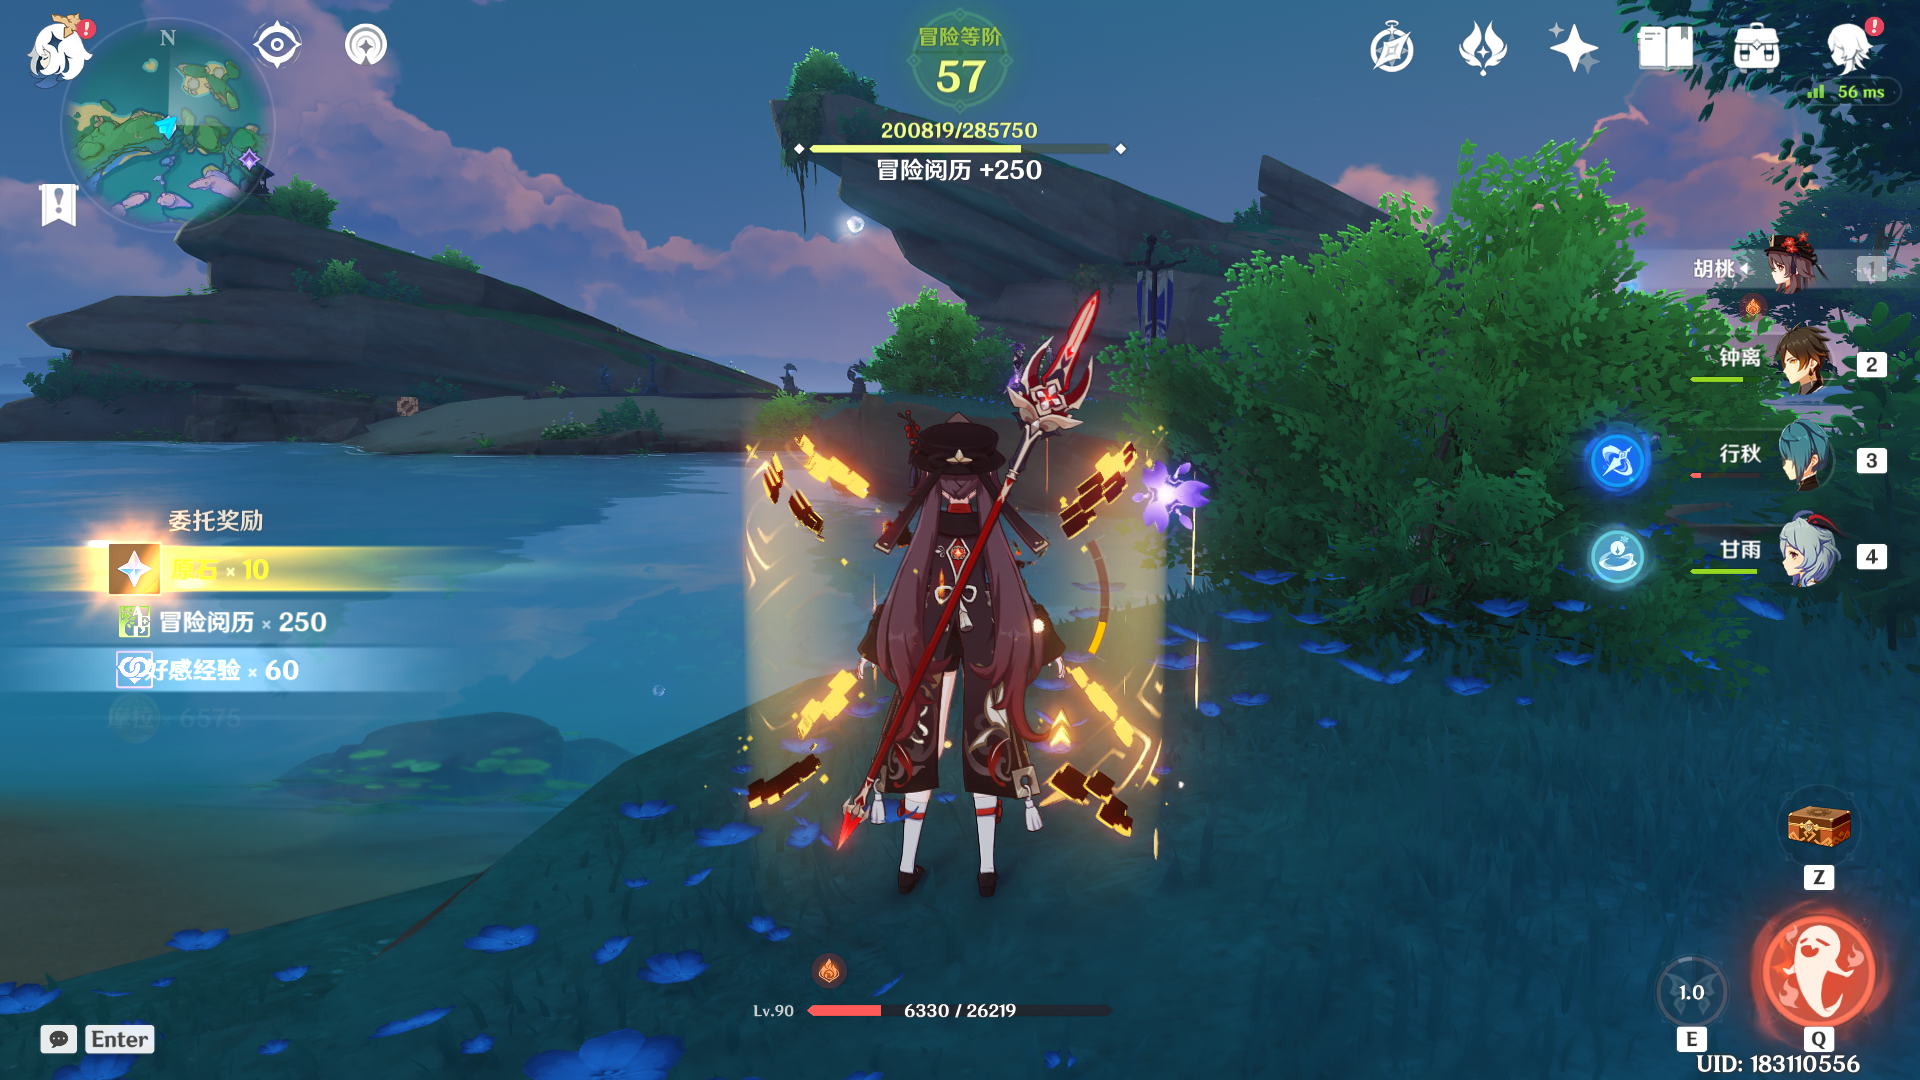character: (752, 385, 1163, 955)
